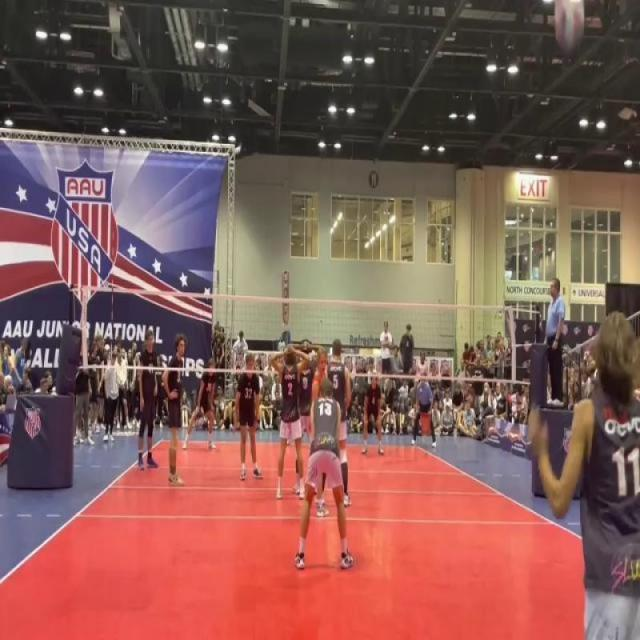volleyball: (553, 0, 585, 53)
